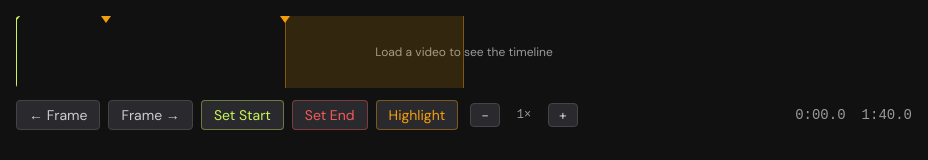
Test: Timeline — highlight markers › shows label tooltip when a marker is hovered
The image size is (928, 160).
Expected: the text "Action Scene" is not shown
Hover over the button named "Action Scene": (285,20) [280, 16, 290, 23]
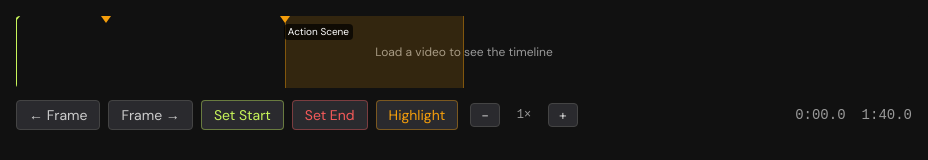
Result: the text "Action Scene" is shown at [284, 24, 353, 40]
Move the pointer off the button "Action Scene", box [280, 16, 290, 23]
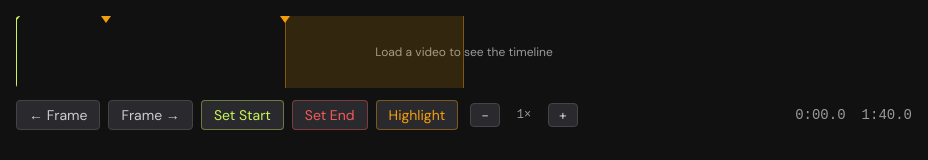
Result: the text "Action Scene" is gone
